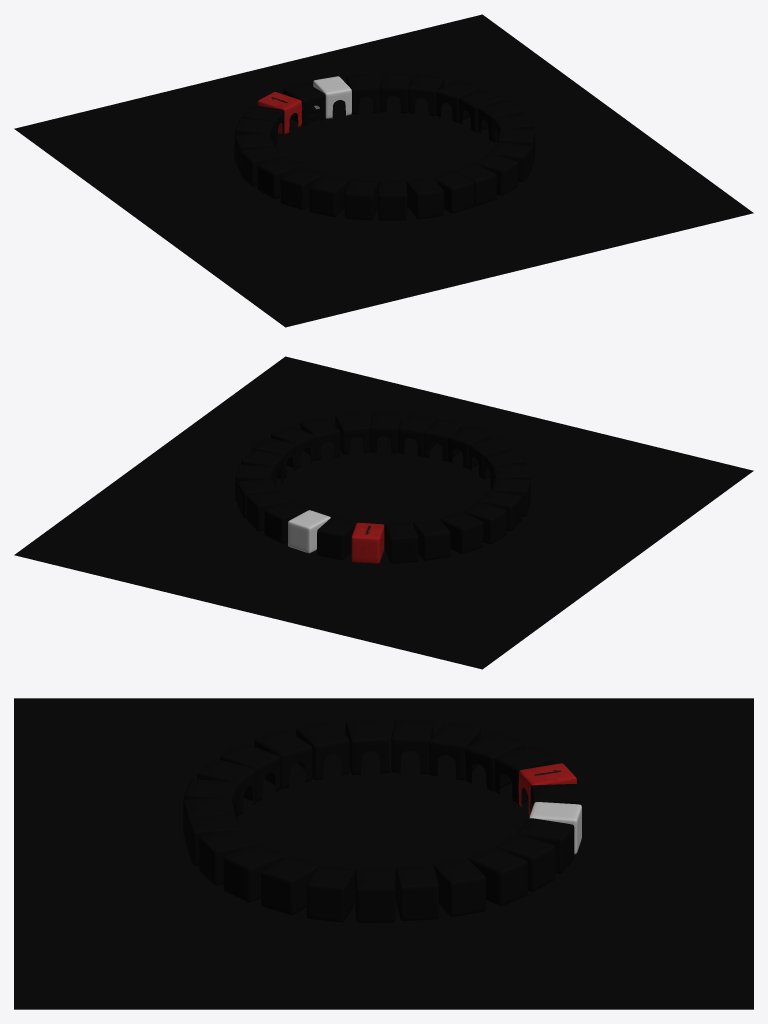
The model's file is cajasAnt.glb.
3 views of the same model, one above another, from view 1: azimuth 30°, elevation 25°; view 2: azimuth 150°, elevation 25°; view 3: azimuth 270°, elevation 25° (orthographic). The views are drawn at different scales.
Parts seen in each view (by area): view 1: Plane002, Box023, Box019, Box024, Box028, Box027, Box021, Box026, Box033, Box034, Box016, Box013 (+14 smaller); view 2: Plane002, Box020, Box009, Box017, Box008, Box022, Box003, Box014, Box029, Box032, Box033, Box035 (+14 smaller); view 3: Plane002, Box031, Box015, Box035, Box016, Box018, Box032, Box030, Box027, Box026, Box013, Box023 (+14 smaller).
Part boxes in pixels (box(x1,y1,x2,y2)): Plane002: box(14, 14, 753, 327); Box023: box(309, 174, 349, 216); Box019: box(406, 177, 443, 219); Box024: box(344, 179, 377, 220); Box028: box(432, 170, 474, 213); Box027: box(280, 167, 323, 209); Box021: box(378, 180, 407, 220); Box026: box(257, 156, 301, 198); Box033: box(474, 153, 518, 195); Box034: box(454, 163, 496, 206); Box016: box(408, 74, 444, 115); Box013: box(380, 72, 411, 113); Plane002: box(14, 356, 753, 669); Box020: box(440, 511, 483, 554); Box009: box(317, 517, 356, 559); Box017: box(384, 522, 418, 563); Box008: box(351, 522, 384, 563); Box022: box(413, 519, 450, 560); Box003: box(288, 510, 330, 553); Box014: box(264, 501, 308, 543); Box029: box(463, 502, 506, 544); Box032: box(335, 413, 369, 454); Box033: box(370, 413, 401, 453); Box035: box(300, 418, 339, 460); Plane002: box(14, 698, 753, 1009); Box031: box(306, 865, 354, 922); Box015: box(433, 859, 485, 916); Box035: box(261, 856, 318, 914); Box016: box(468, 847, 527, 905); Box018: box(395, 865, 438, 920); Box032: box(223, 844, 283, 902); Box030: box(355, 868, 395, 922); Box027: box(296, 722, 349, 779); Box026: box(345, 719, 389, 774); Box013: box(495, 834, 555, 891); Box023: box(254, 730, 312, 789).
Size of the model in its own units: 18.71 by 1.45 by 18.78.
Materials: 27 (1 with a texture image).
